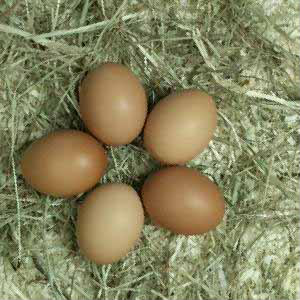egg: (76, 63, 148, 145), (73, 184, 144, 266), (19, 130, 107, 196), (143, 89, 218, 166), (142, 166, 225, 235)
